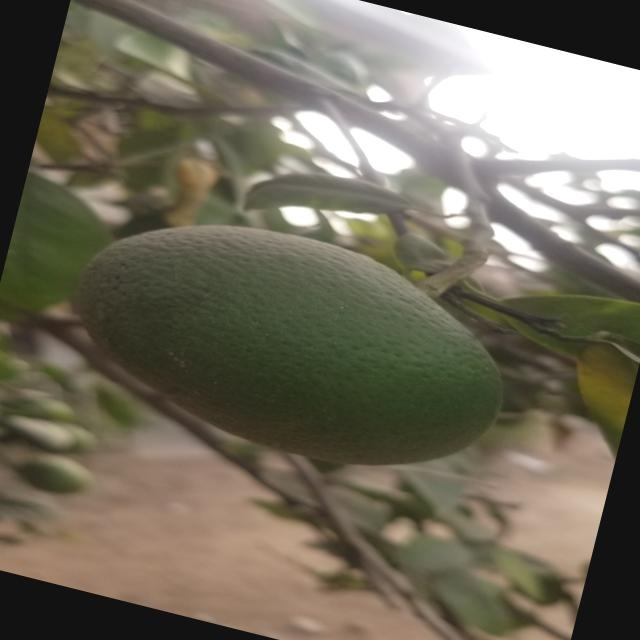agrume: (30, 176, 530, 500)
